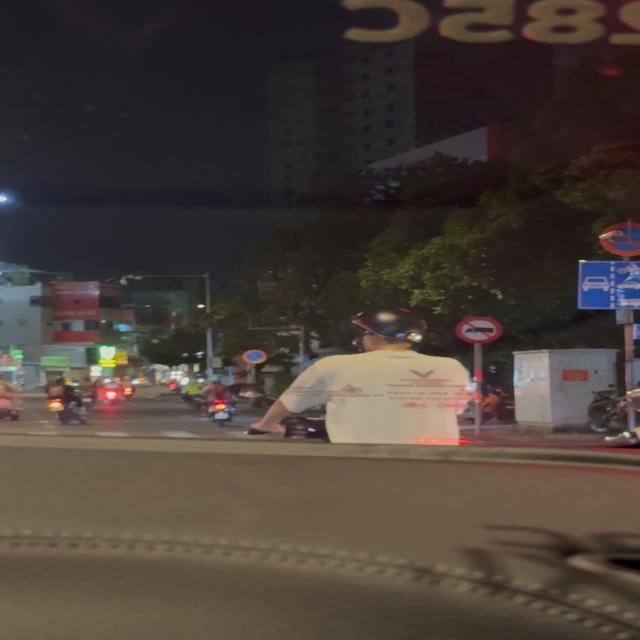Bien bao cam xe so-mi ro-mooc: (456, 315, 508, 344)
